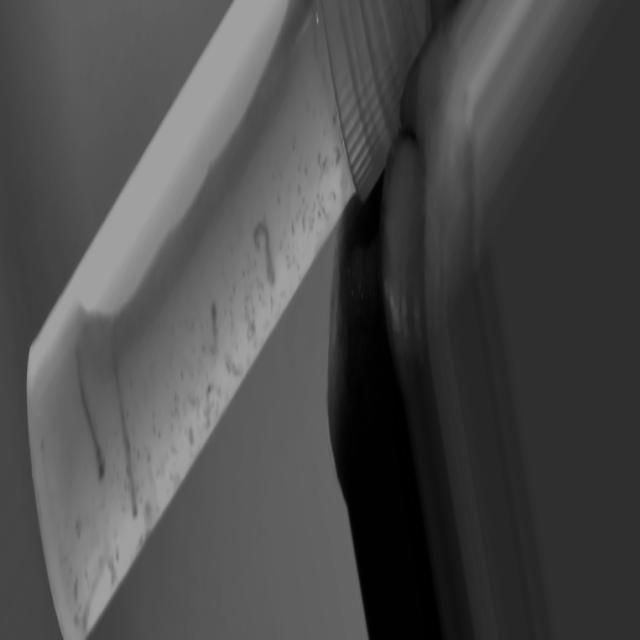larvas: (73, 349, 108, 486), (110, 368, 141, 517), (252, 223, 275, 288), (208, 303, 220, 350)
